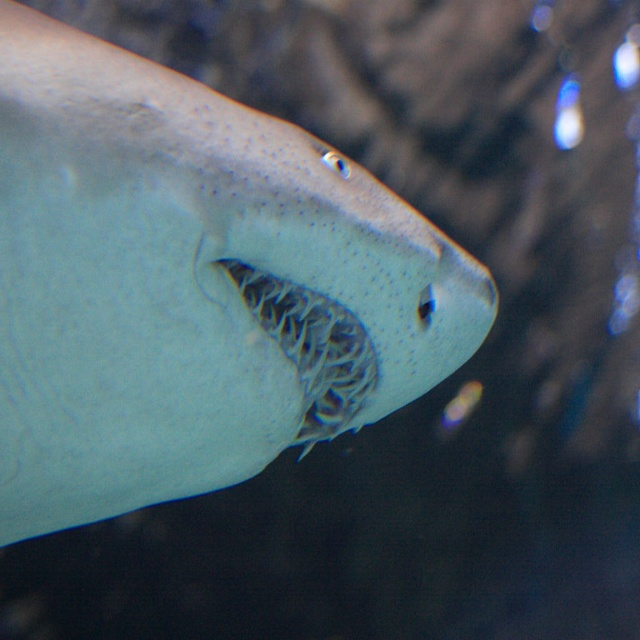Shark: (0, 0, 499, 547)
